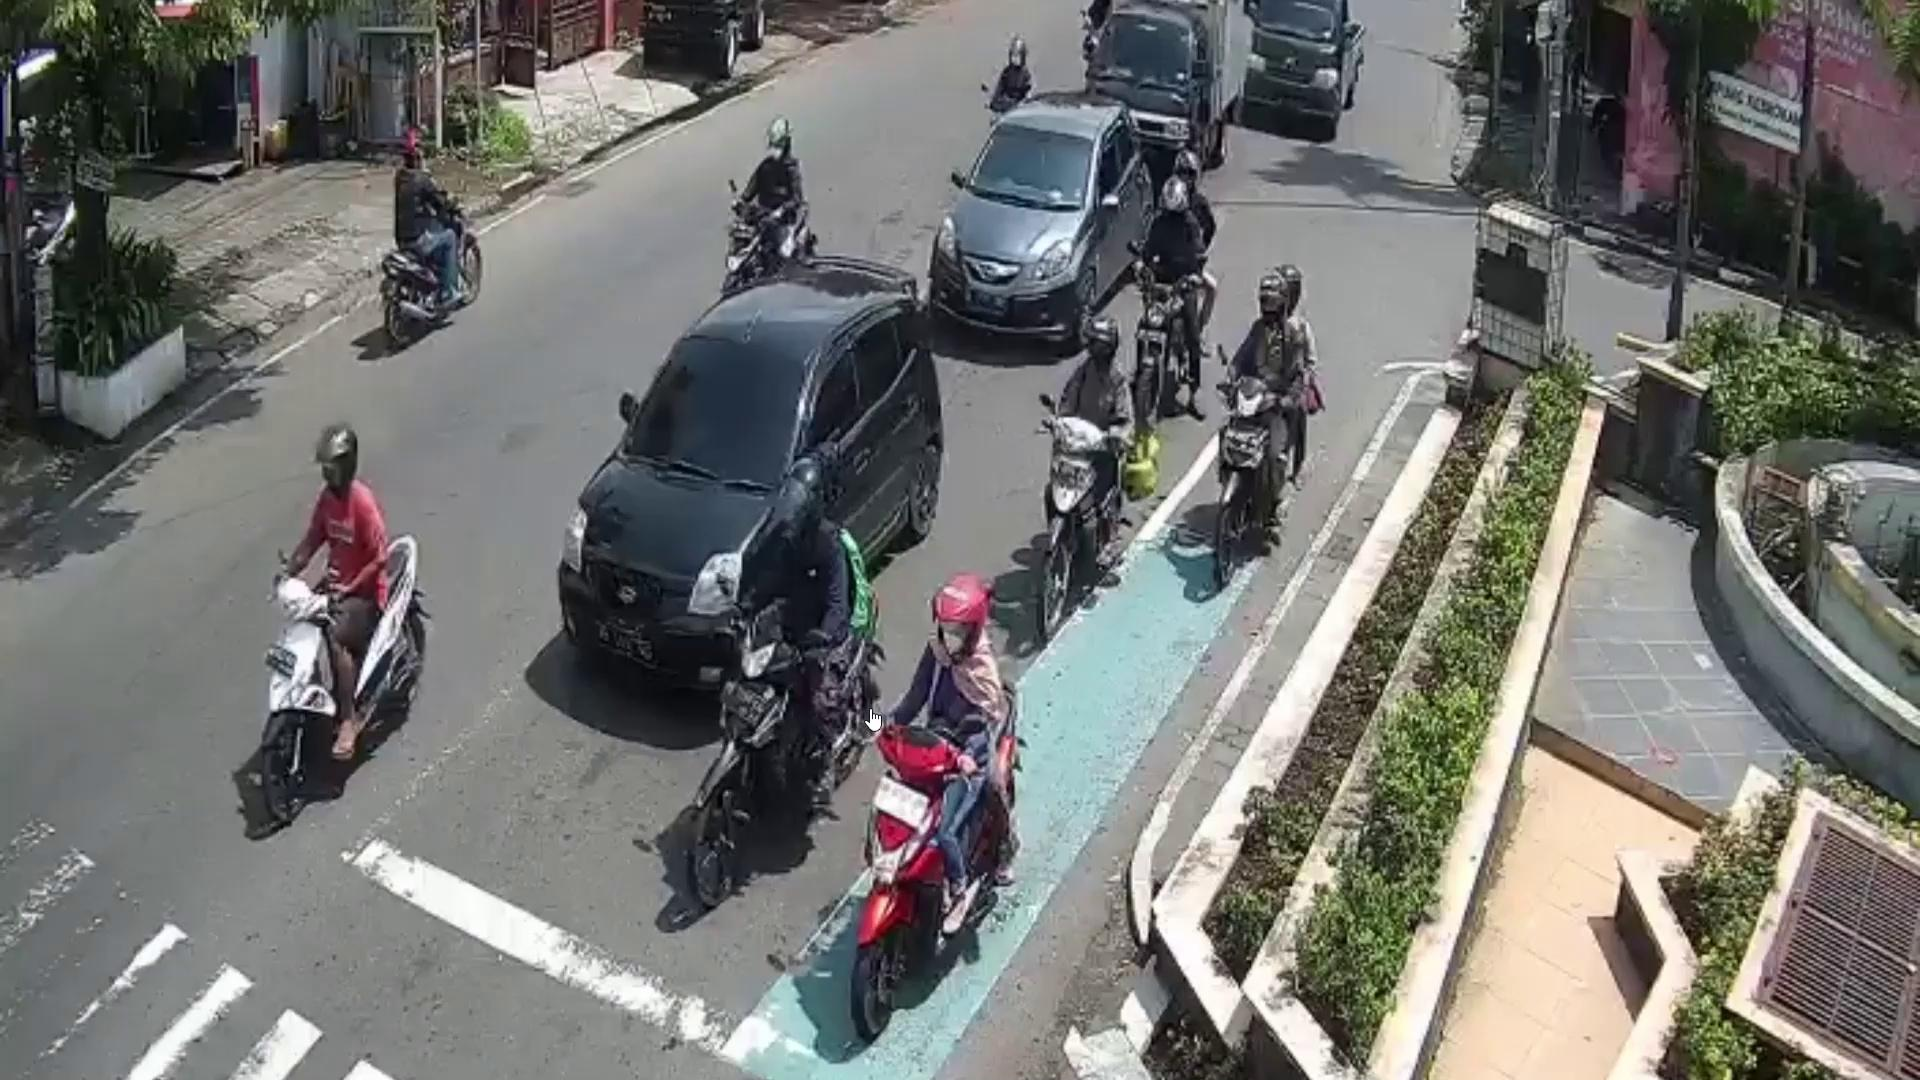car: (559, 260, 938, 695), (927, 92, 1153, 340), (1246, 0, 1364, 125)
motorbike: (684, 595, 884, 918), (855, 675, 1018, 1036), (262, 533, 426, 828), (1034, 415, 1125, 645), (384, 189, 484, 355), (1215, 378, 1287, 588), (1137, 280, 1187, 425)
truck: (1088, 0, 1238, 170)
